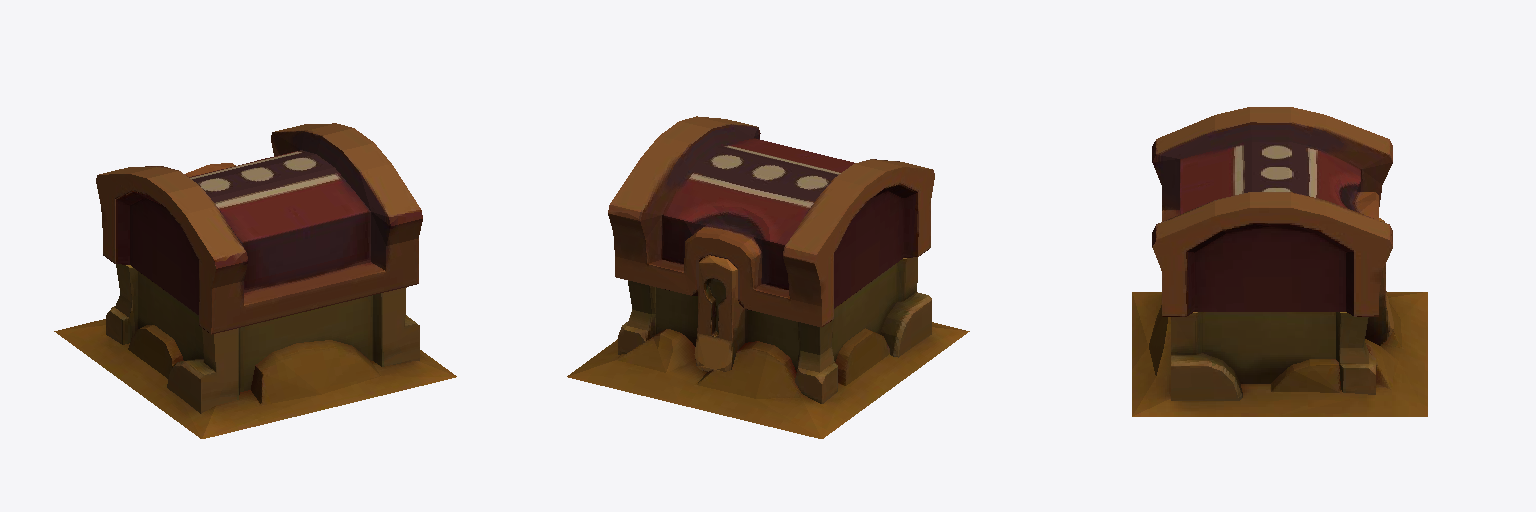
3 renders of one model, left to right at view 1: azimuth 30°, elevation 25°; view 2: azimuth 150°, elevation 25°; view 3: azimuth 270°, elevation 25°, orthographic.
Parts seen in each view (by area): view 1: OBJ_Chest_01, OBJ_Chest_02; view 2: OBJ_Chest_01, OBJ_Chest_02; view 3: OBJ_Chest_01, OBJ_Chest_02.
Boxes of the visible parts, x1=… form: OBJ_Chest_01: x1=96, y1=123, x2=422, y2=334; OBJ_Chest_02: x1=54, y1=264, x2=456, y2=438; OBJ_Chest_01: x1=608, y1=116, x2=934, y2=327; OBJ_Chest_02: x1=567, y1=255, x2=969, y2=438; OBJ_Chest_01: x1=1152, y1=107, x2=1392, y2=316; OBJ_Chest_02: x1=1132, y1=218, x2=1427, y2=416.
Bounding box in the file's own units: 2.4 × 1.77 × 2.4.
Materials: 1 (1 with a texture image).